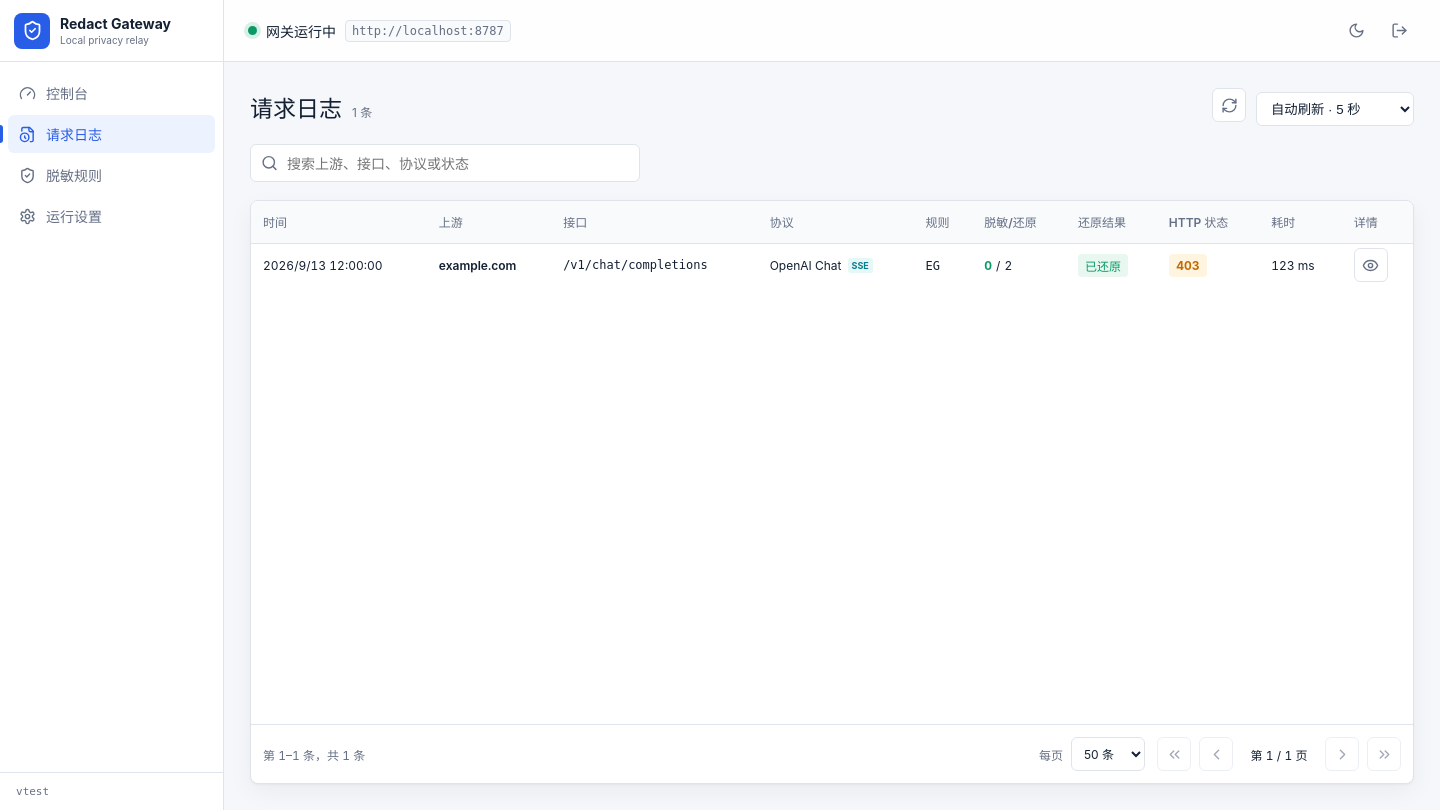
Test: App › shows empty details and errors for a request without redactions
The width and height of the screenshot is (1440, 810).
Click the button named "查看请求 request-one 的详情". click: (1371, 265)
box: [1354,248,1388,282]
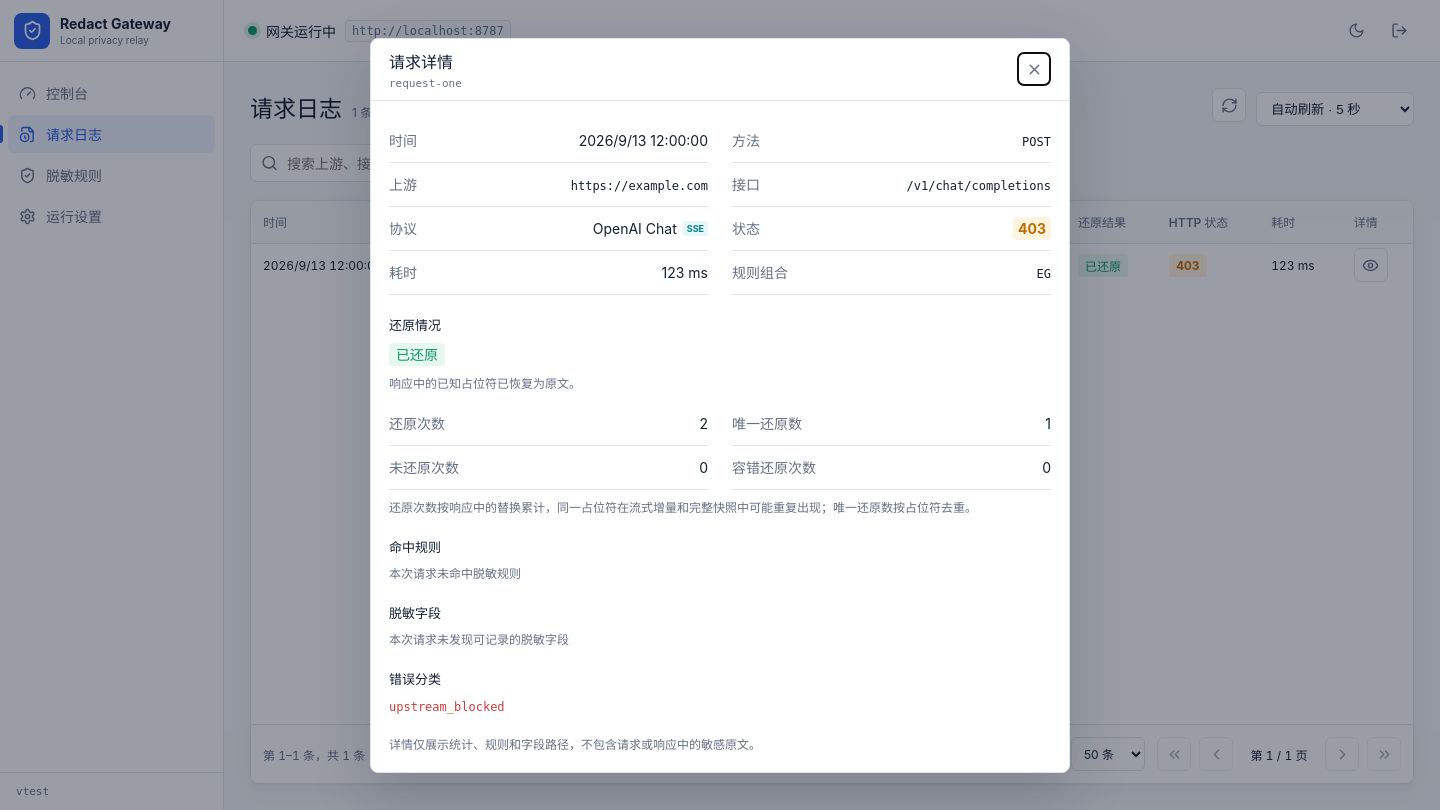
Result: the text "本次请求未命中脱敏规则" is shown at [389,566,521,580]
Result: the text "本次请求未发现可记录的脱敏字段" is shown at [389,632,569,646]
Result: the text "upstream_blocked" is shown at [389,700,505,714]
